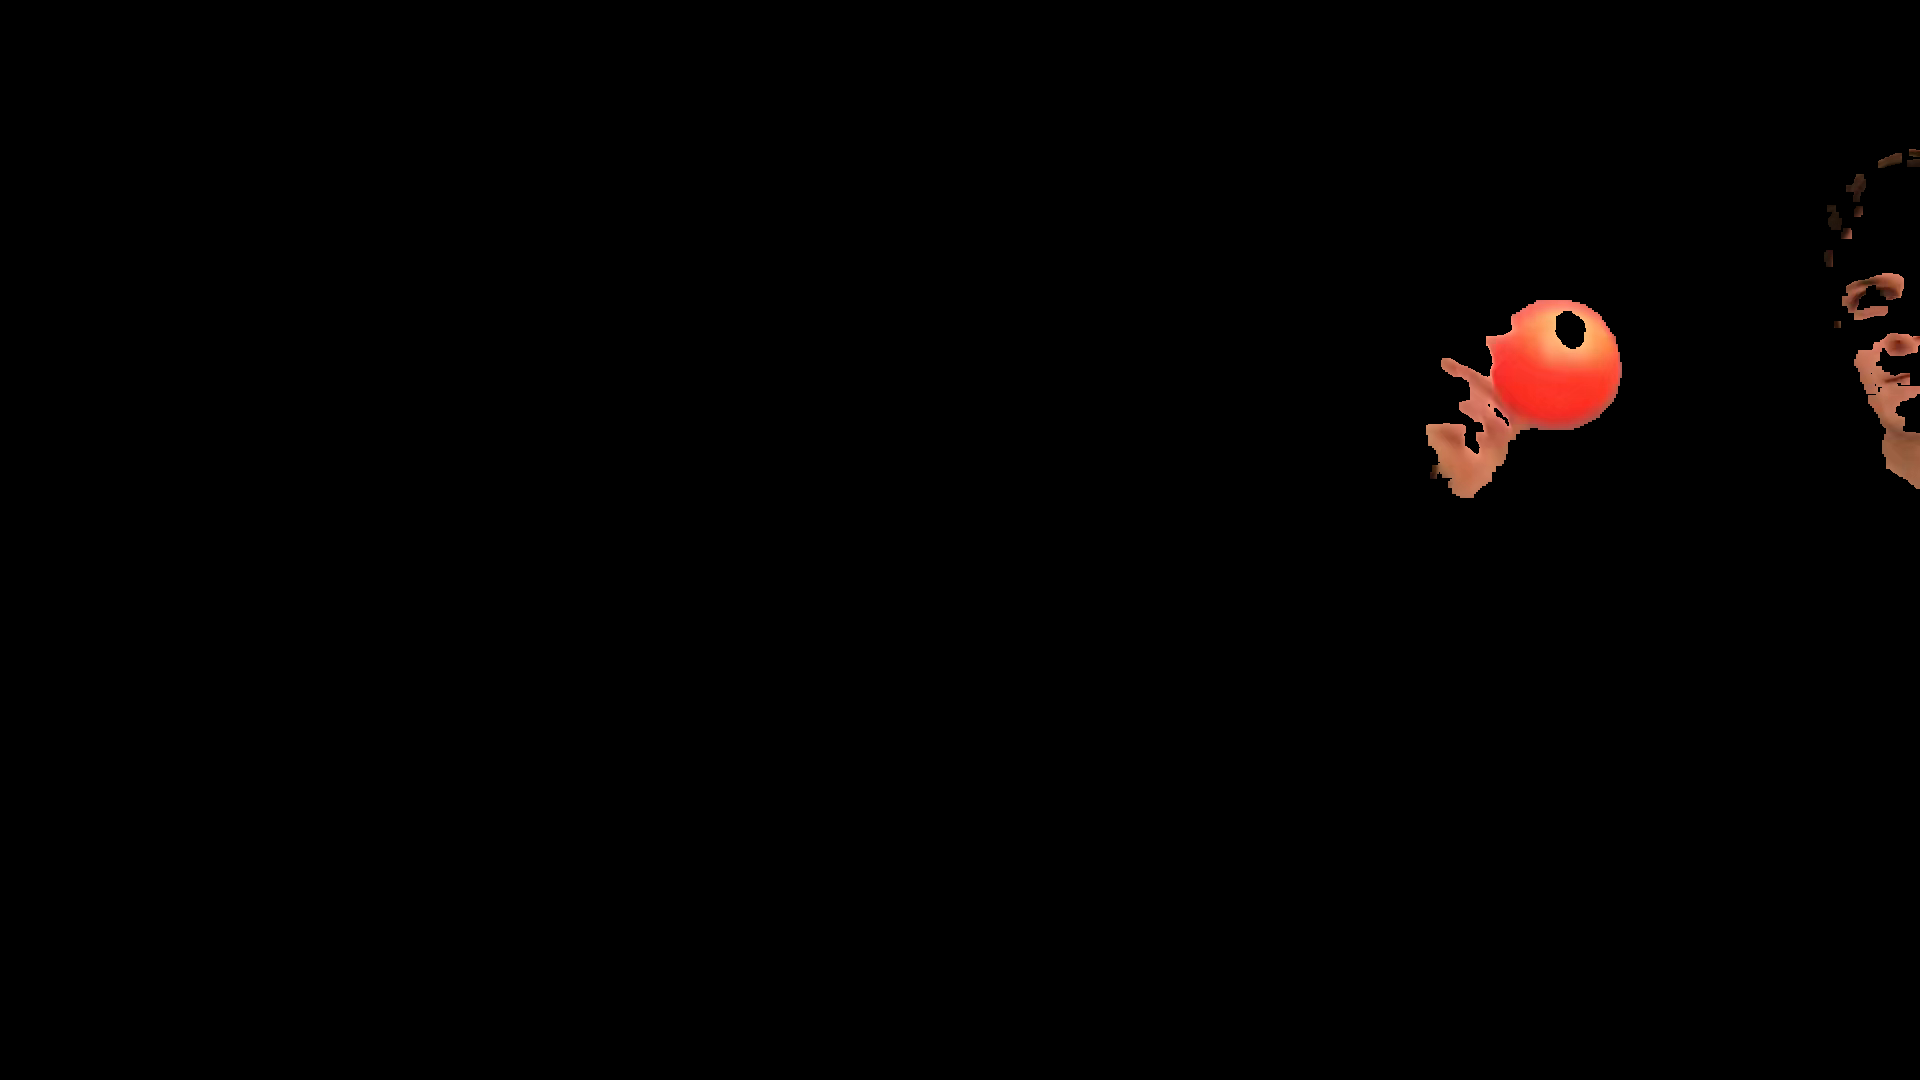Ball: (1491, 291, 1638, 438)
